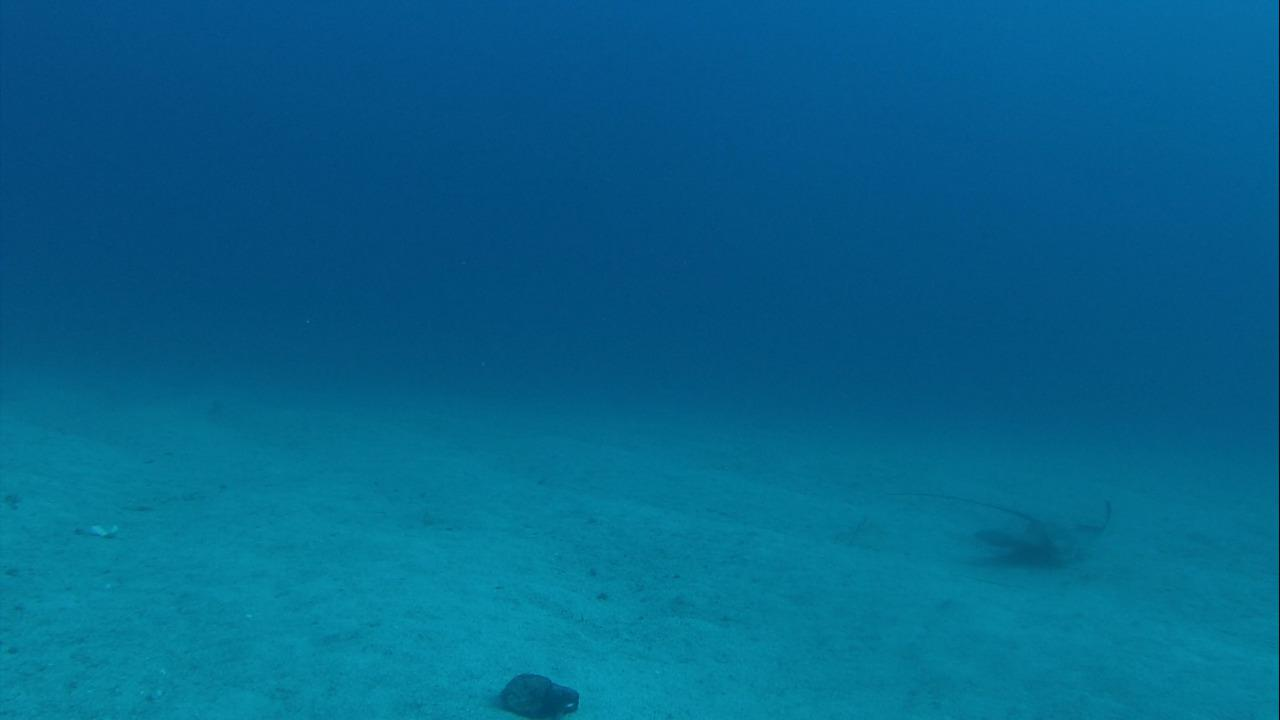myliobatis: (891, 475, 1121, 572)
